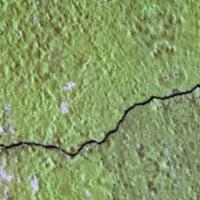crack: (1, 77, 199, 180)
